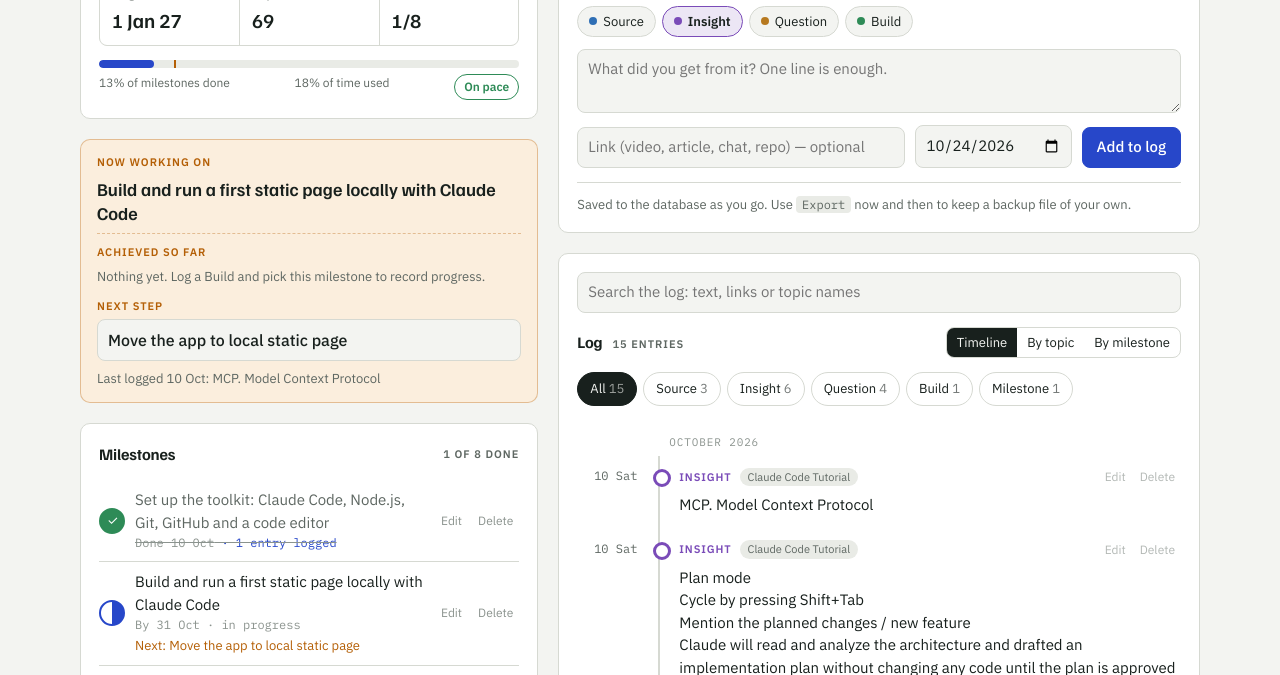
Learning Ledger app › saves the next step when Enter is pressed
(page scrolled)
Replace the text in the field with id "nextInput" with "Write the README" at (309, 340), box left=97, top=318, right=521, bottom=360
Then press Enter
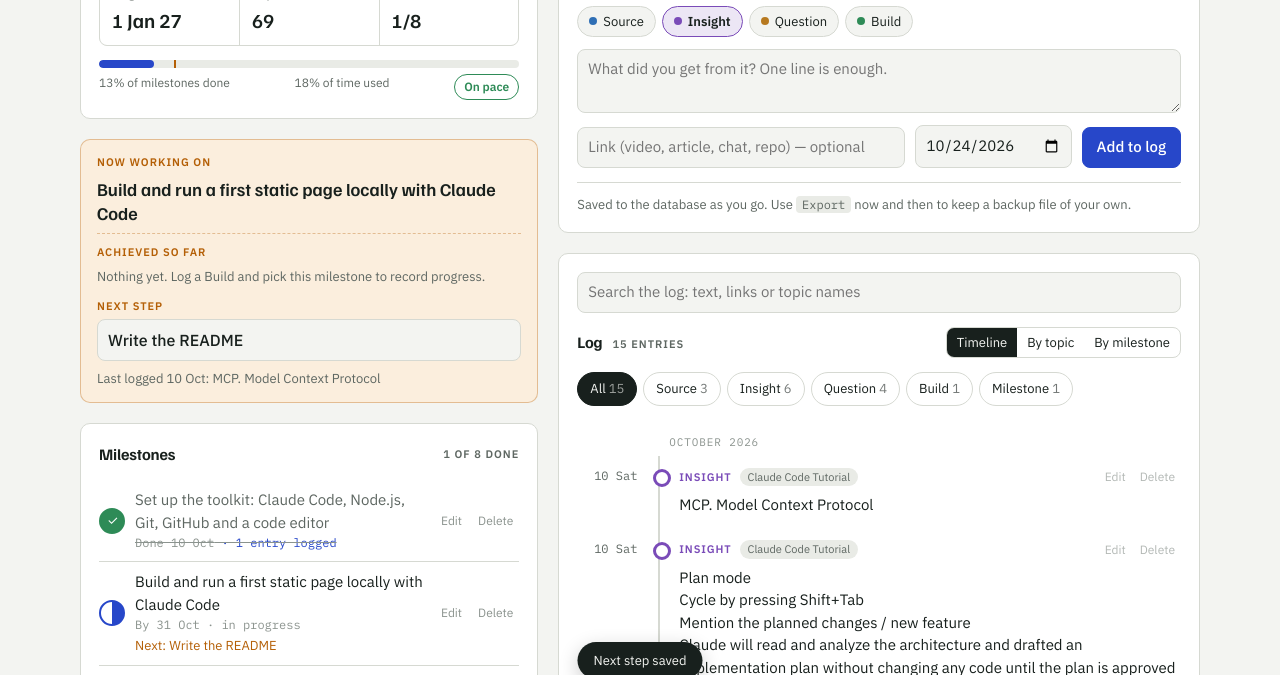
Check: the message with id "toast" reads "Next step saved", box left=594, top=652, right=686, bottom=668
